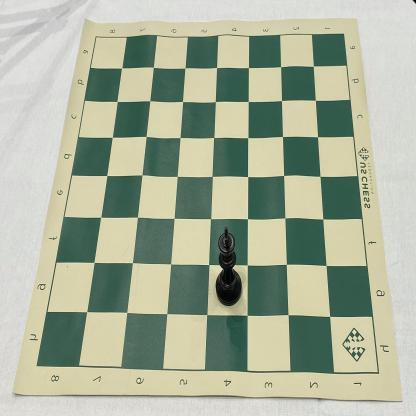black-king: (215, 227, 242, 306)
